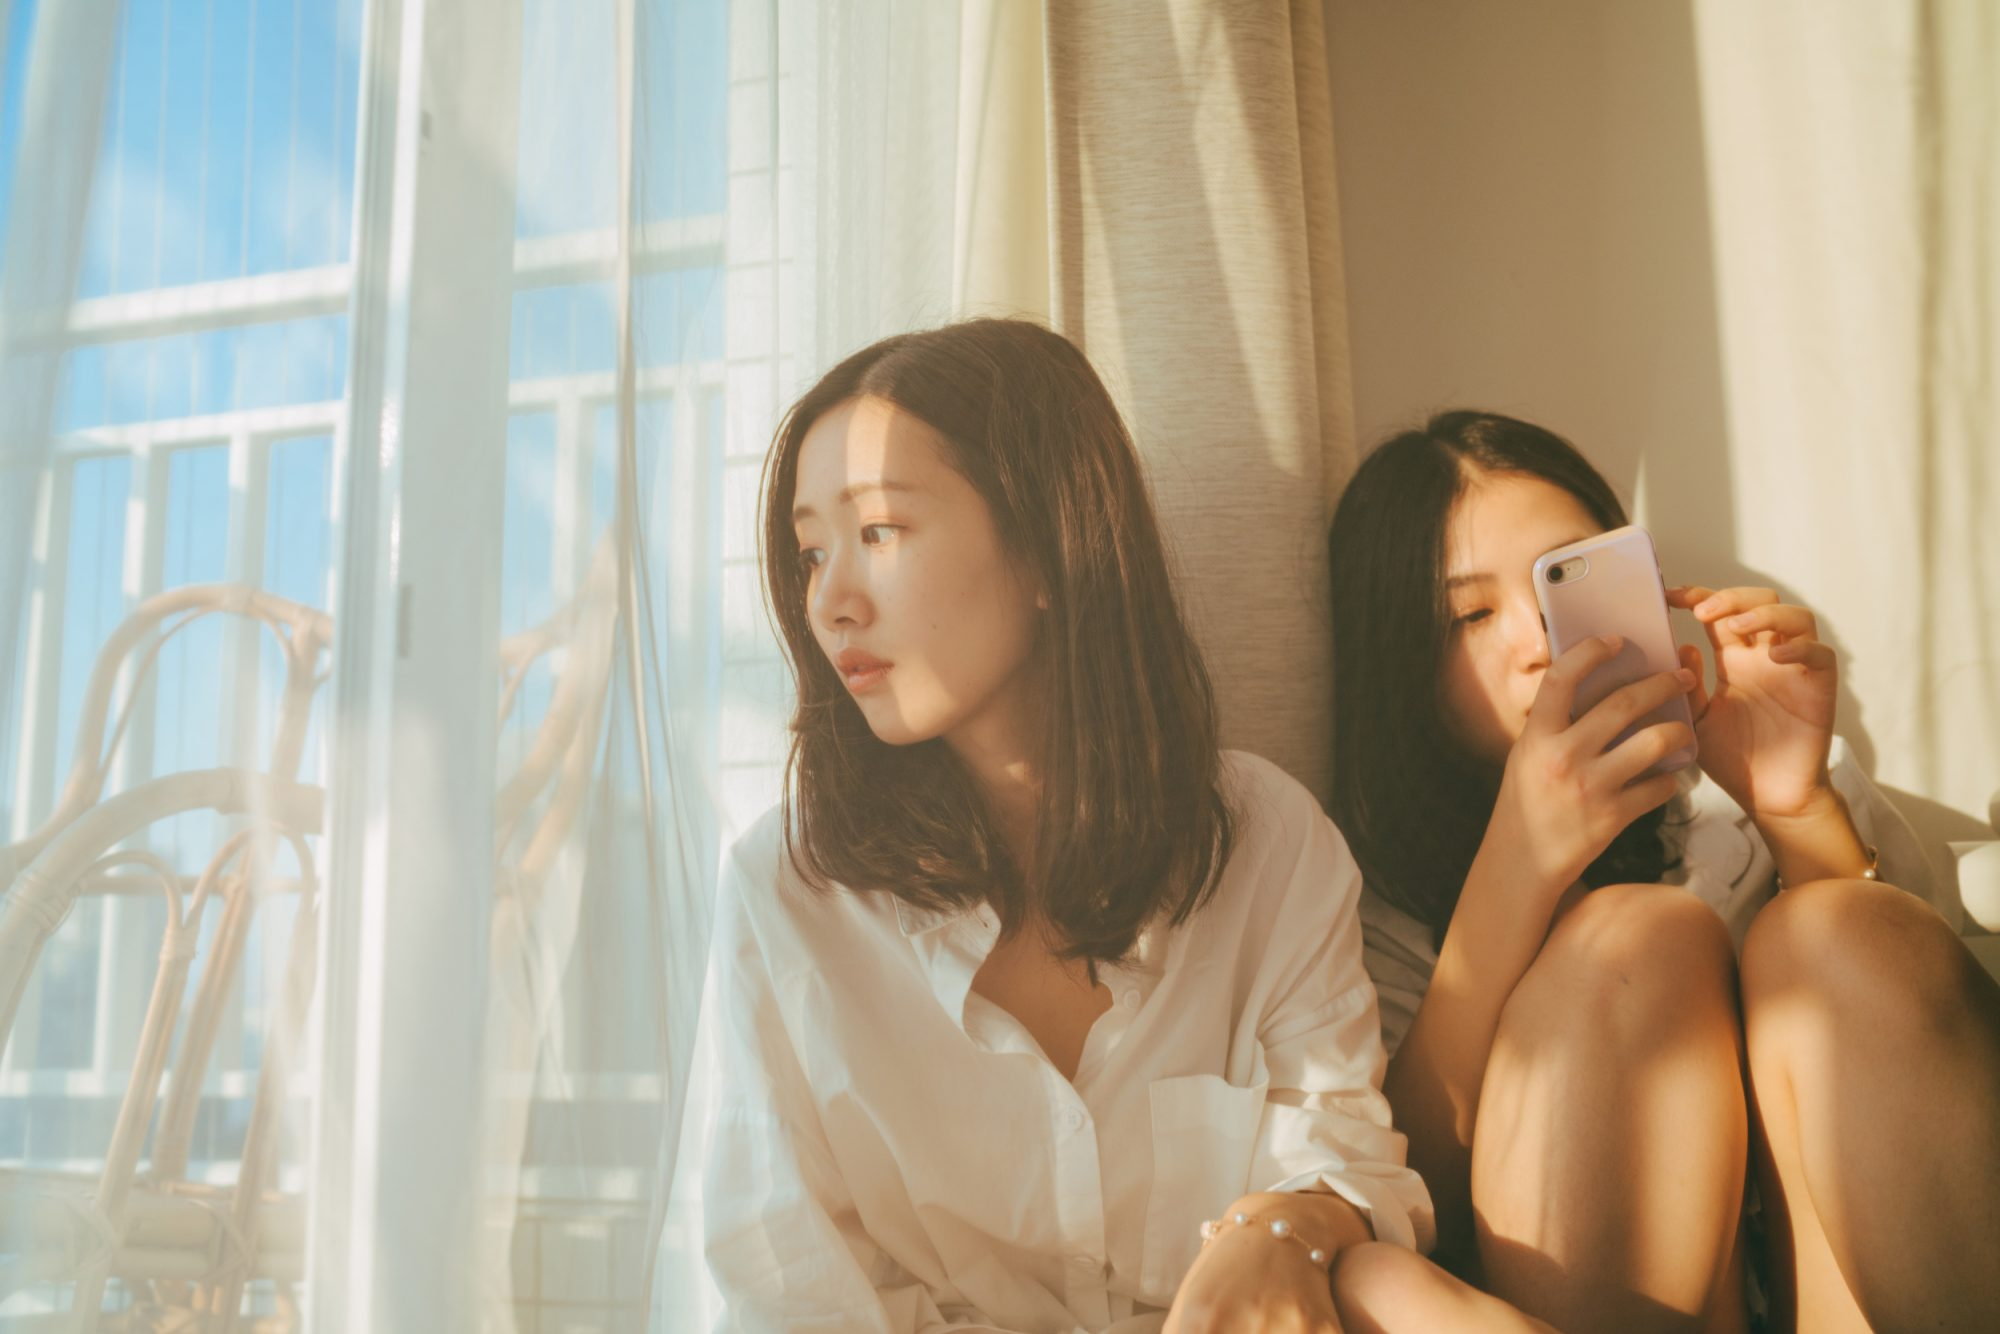NoMask: (791, 470, 1001, 744)
